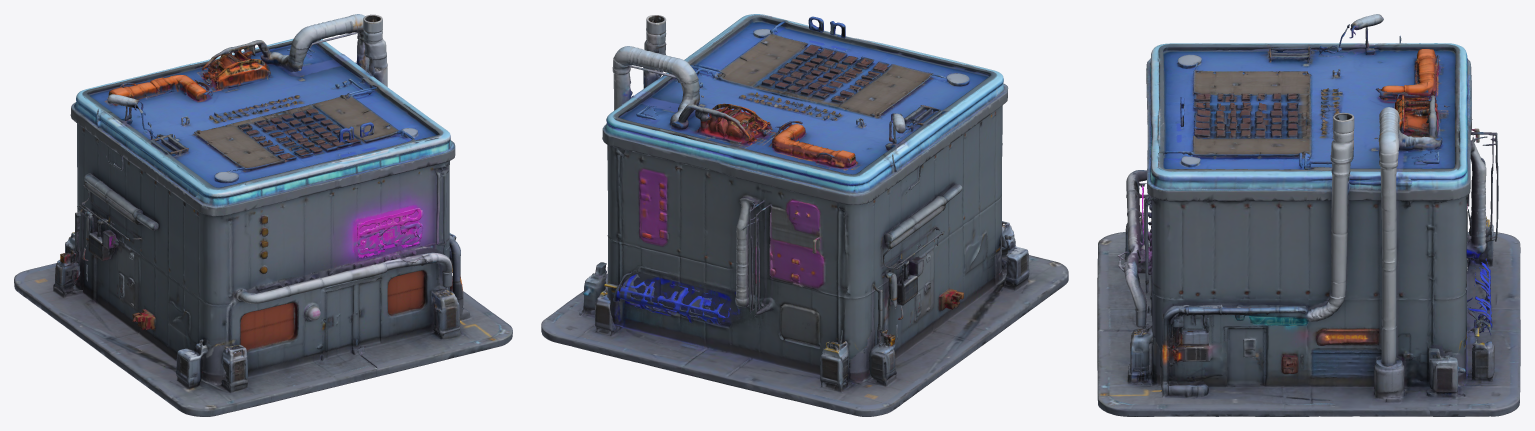
Rendered from factory_3.glb.
The picture shows the model from 3 angles, left to right: view 1: azimuth 30°, elevation 25°; view 2: azimuth 150°, elevation 25°; view 3: azimuth 270°, elevation 25°; orthographic projection. The views are drawn at different scales.
Bounding box in the file's own units: 2 × 1.46 × 2.
Materials: 1 (1 with a texture image).
